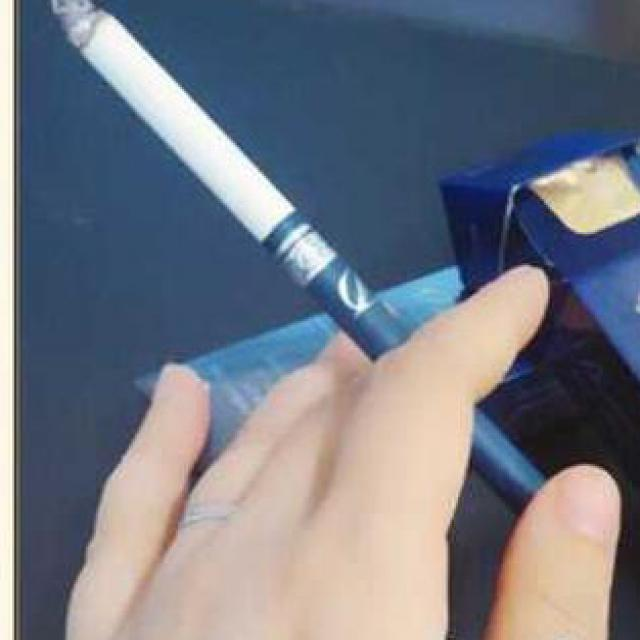smoking: (49, 5, 548, 511)
